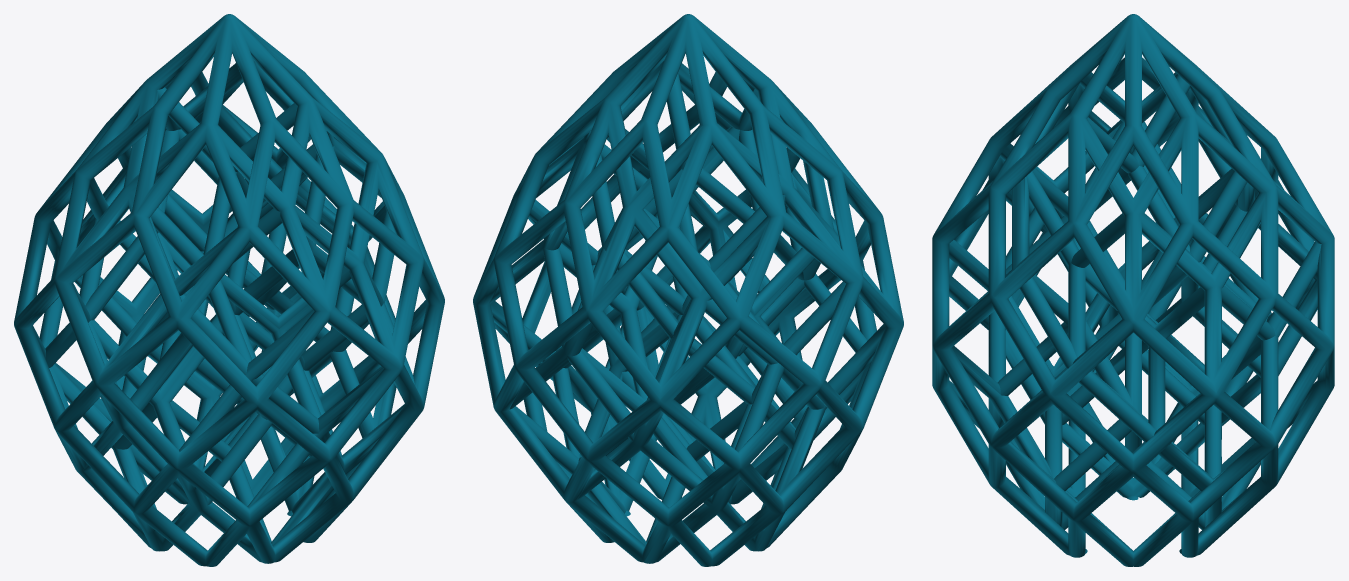
The model's file is cosa_rara.obj.
The picture shows the model from 3 angles, left to right: view 1: azimuth 30°, elevation 25°; view 2: azimuth 150°, elevation 25°; view 3: azimuth 270°, elevation 25°; orthographic projection.
Visible parts, largest first — view 1: Z8200mm; view 2: Z8200mm; view 3: Z8200mm.
Boxes of the visible parts, x1,y1,x2,y2 form: Z8200mm: [14, 14, 444, 566]; Z8200mm: [473, 14, 903, 566]; Z8200mm: [932, 14, 1334, 566].
Bounding box in the file's own units: 9.76 × 13.75 × 9.76.
